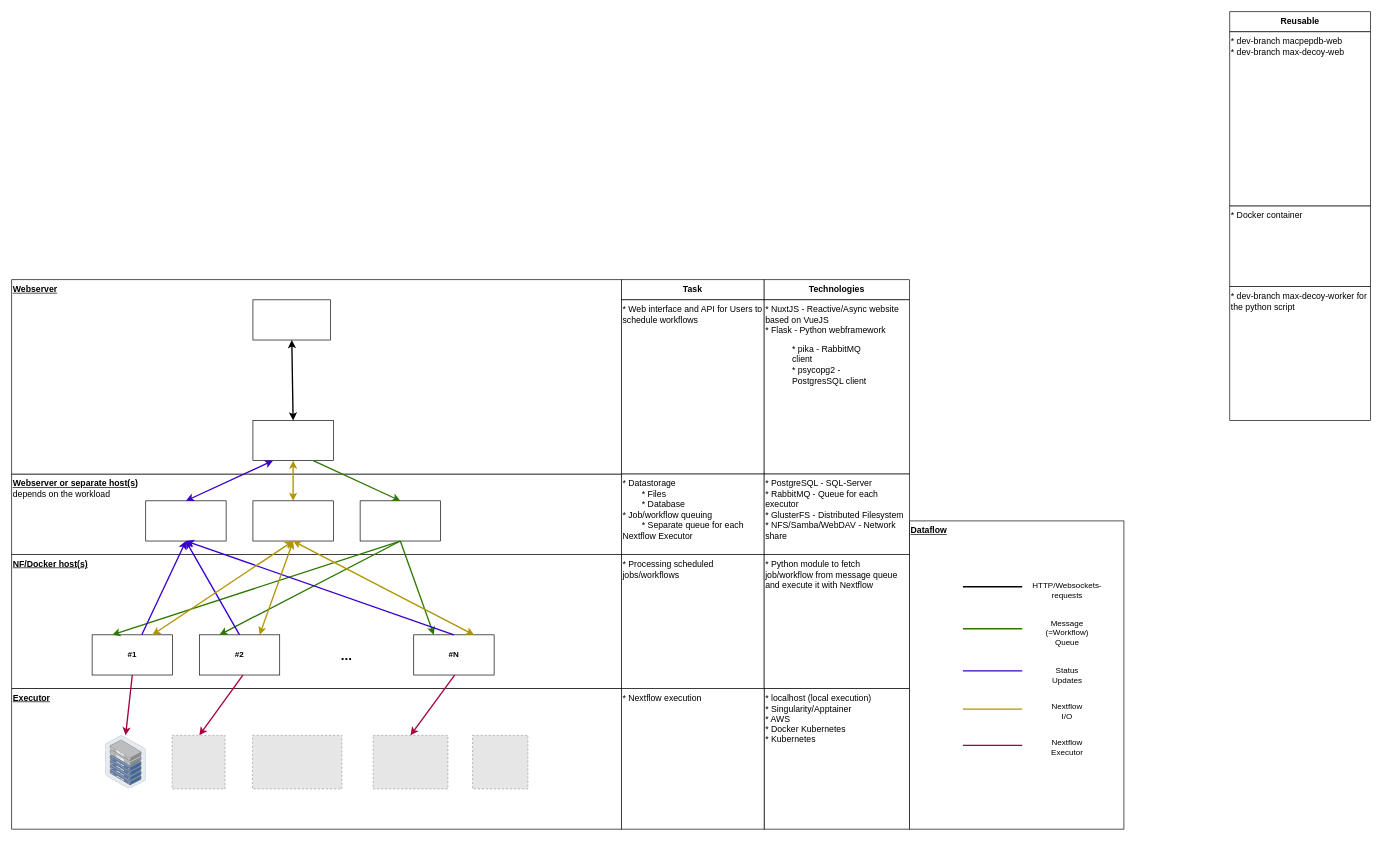
Image size: 1382x841. Some labels were removed from this diagram. Grey dashed boxes stand in for pictures. The shapes that lost their labels are listed below. From the top down, each one's centre as x and y in pixels, then its label:
At pixel 291 319: "Website".
At pixel 292 440: "Web API".
At pixel 185 520: "PostgreSQL".
At pixel 292 520: "Network-Filestorage (Most probably NFS, maybe GlusterFS)".
At pixel 400 520: "RabbitMQ".
